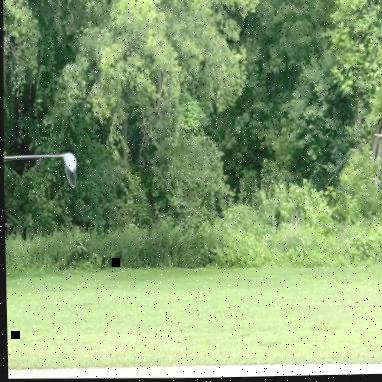GolfBall: (57, 144, 81, 193)
